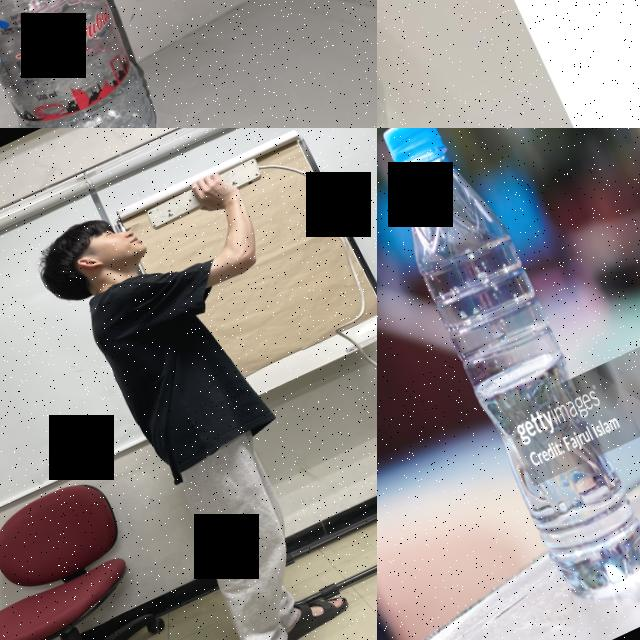bottle: (377, 128, 640, 616), (0, 0, 199, 128), (377, 0, 501, 128)
